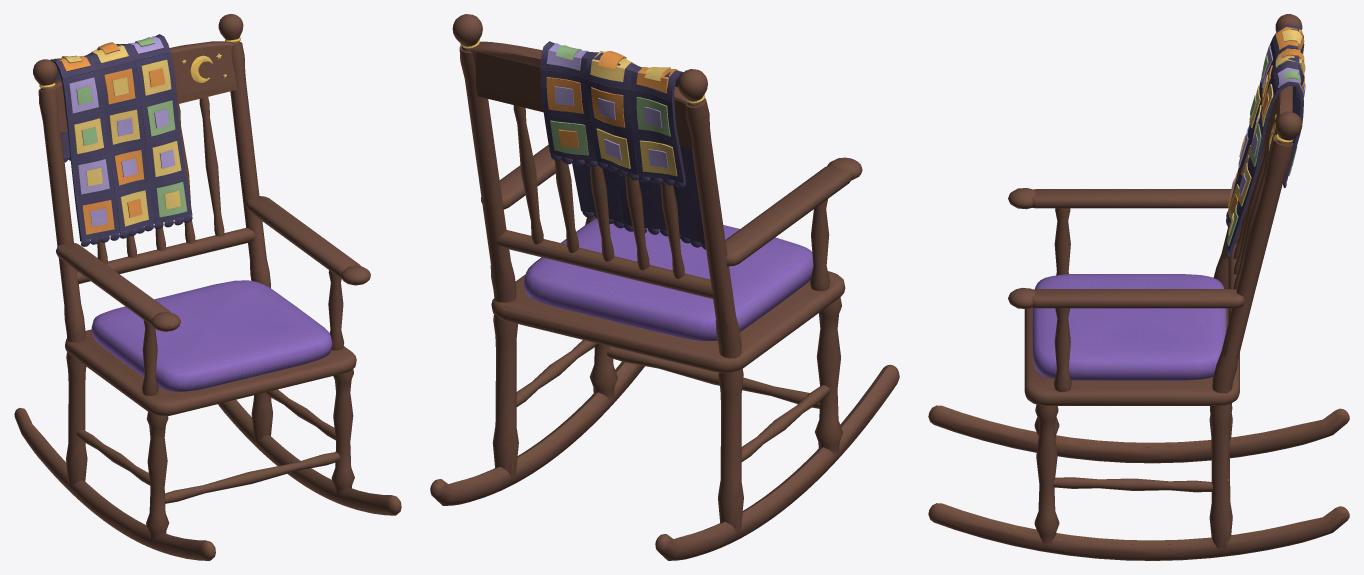
The model's file is mecedora.glb.
3 views of the same model, side by side, from view 1: azimuth 30°, elevation 25°; view 2: azimuth 150°, elevation 25°; view 3: azimuth 270°, elevation 25° (orthographic). The views are drawn at different scales.
Parts seen in each view (by area): view 1: rocking-chair_body; view 2: rocking-chair_body; view 3: rocking-chair_body.
Boxes of the visible parts, <box> form: rocking-chair_body: <box>14,14,401,560</box>; rocking-chair_body: <box>430,14,899,560</box>; rocking-chair_body: <box>928,14,1349,560</box>.
Bounding box in the file's own units: 0.594 × 1.09 × 0.9299.
Materials: 1 (1 with a texture image).
